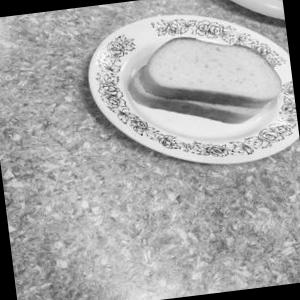bread: (114, 5, 292, 156)
